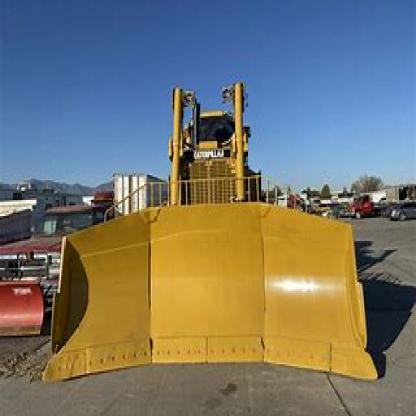bull_dozer/loader/grader: (40, 74, 400, 396)
